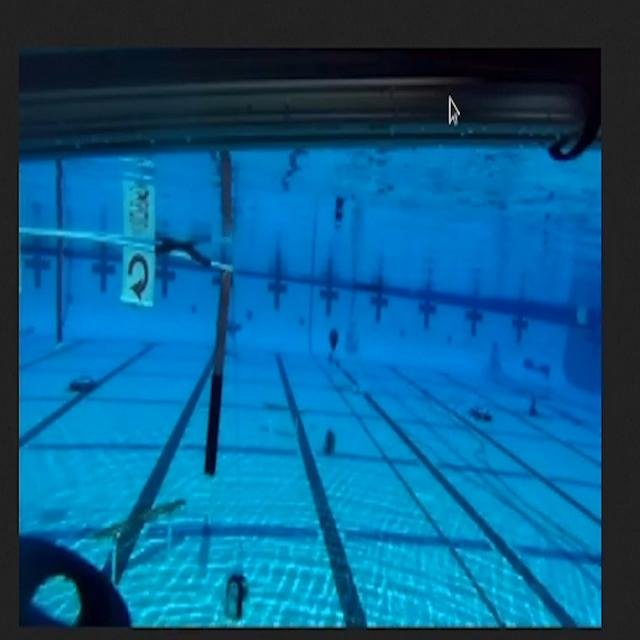Gate: (20, 215, 243, 485)
Path: (65, 484, 208, 576)
